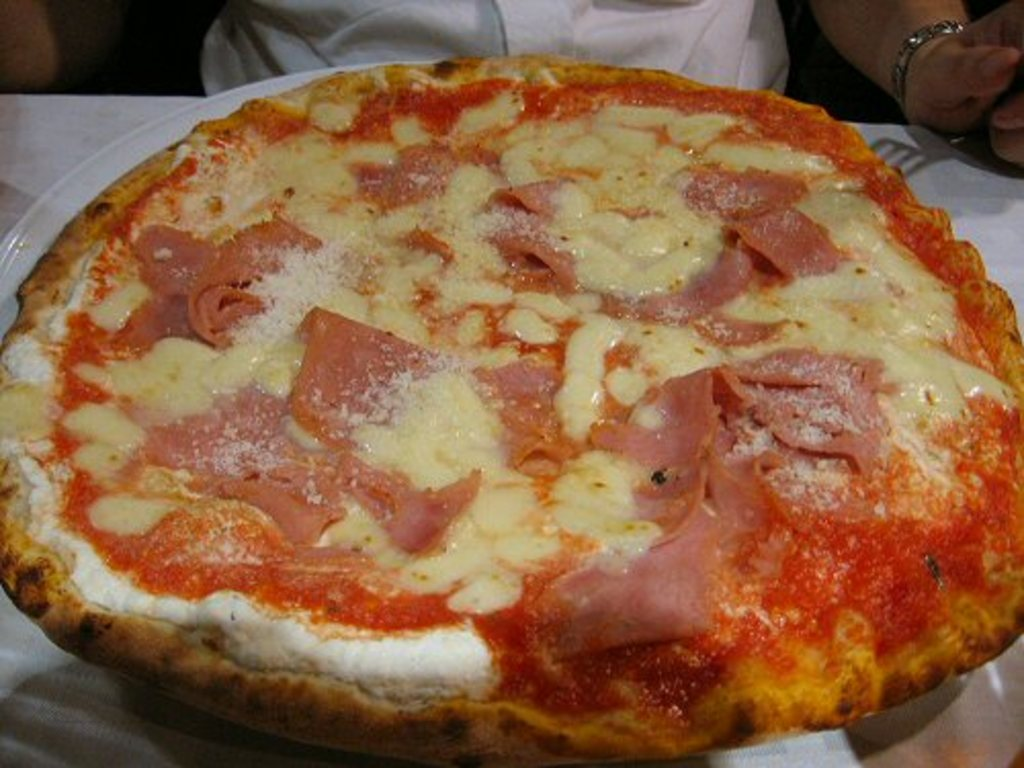pizza: (0, 45, 1022, 766)
